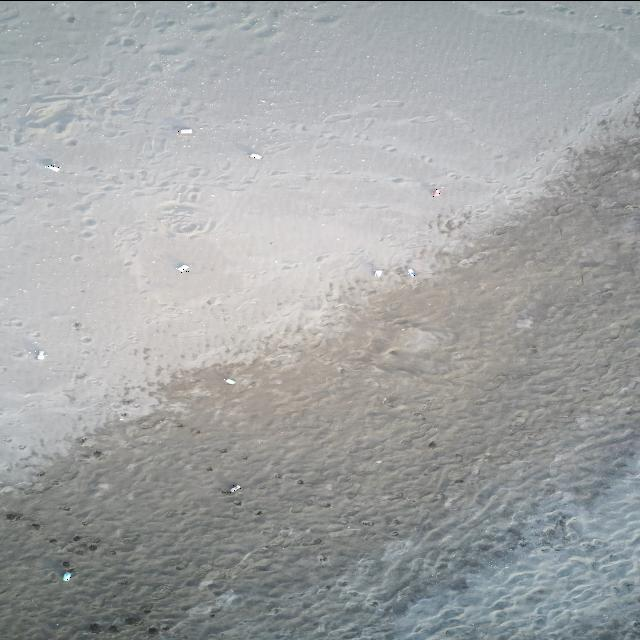Garbage: (44, 163, 60, 171), (176, 263, 190, 272), (176, 128, 192, 135), (227, 484, 240, 492), (248, 152, 261, 159), (62, 571, 71, 580), (35, 350, 44, 359), (432, 187, 440, 196), (373, 268, 382, 276), (224, 377, 235, 383), (408, 267, 415, 276), (375, 460, 382, 463)
